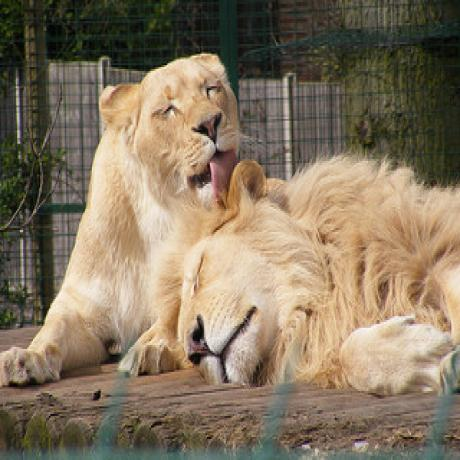Lion: (178, 156, 460, 396), (72, 51, 241, 244)
